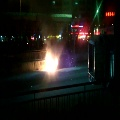fire: (43, 50, 58, 72)
